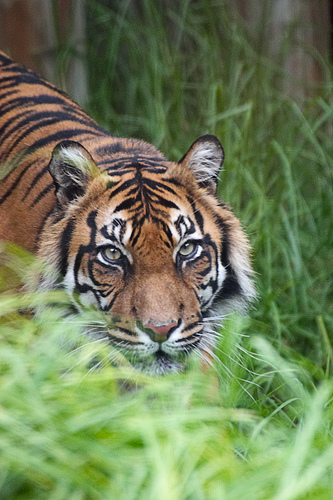Tigre: (5, 53, 254, 398)
